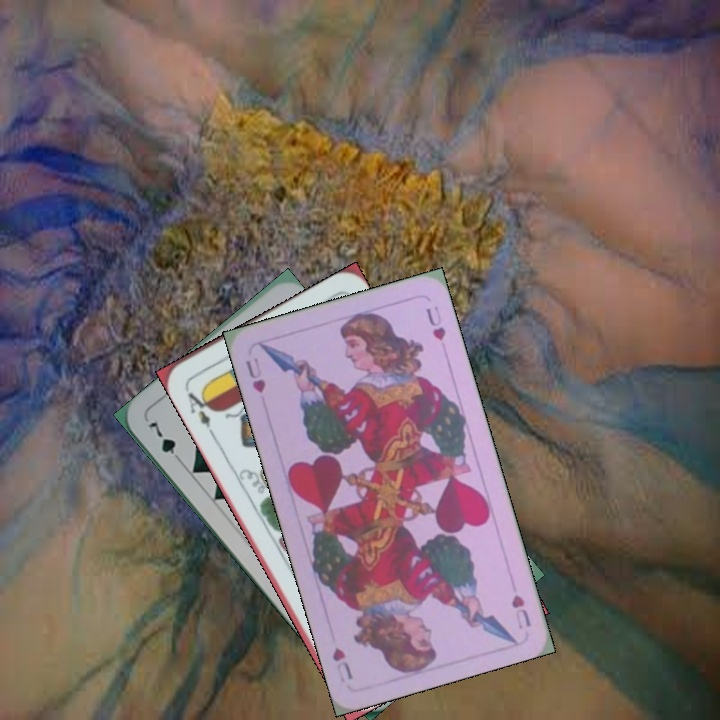EA: (180, 383, 216, 437)
G7: (144, 417, 186, 467)
HU: (507, 590, 534, 632), (241, 354, 268, 395)
